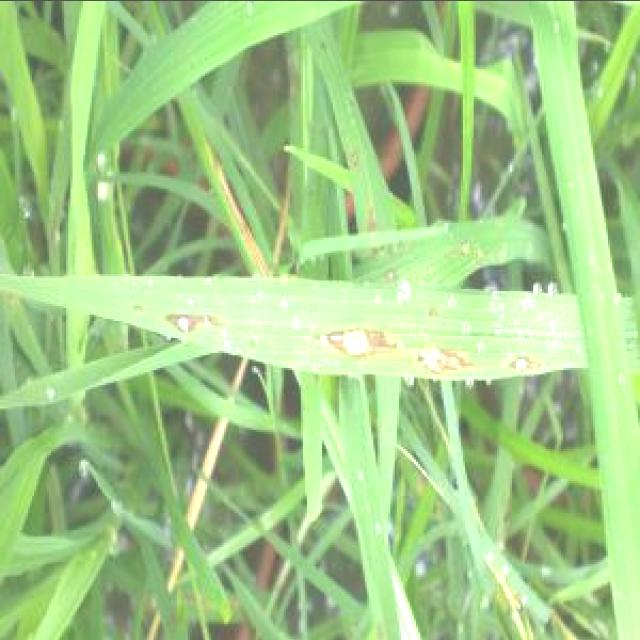Brown_Spot: (320, 314, 482, 366)
